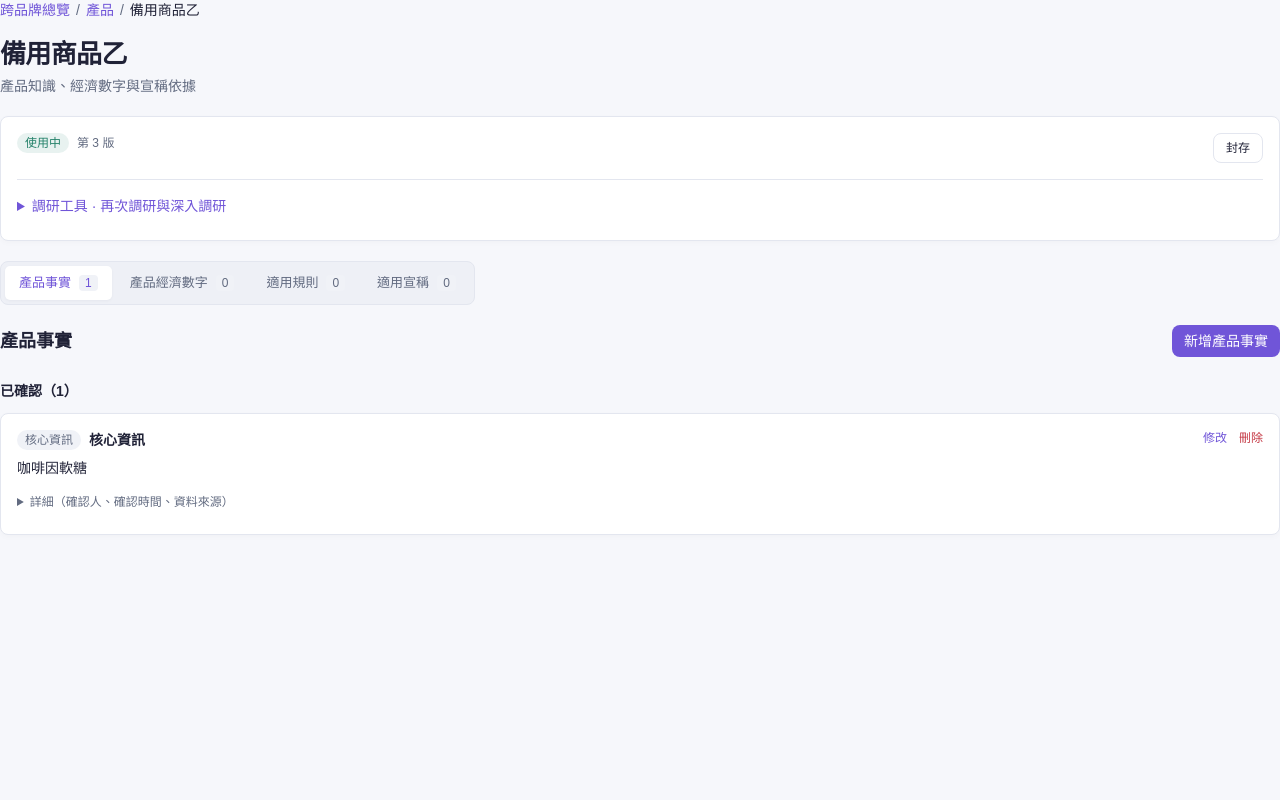
it: ProductDetailPage 封存 (F47-I05, drill-10 V9) › a refused archive keeps the dialog open with the reason
Click the button "封存".
click(1238, 148)  # box [1213,133,1263,163]
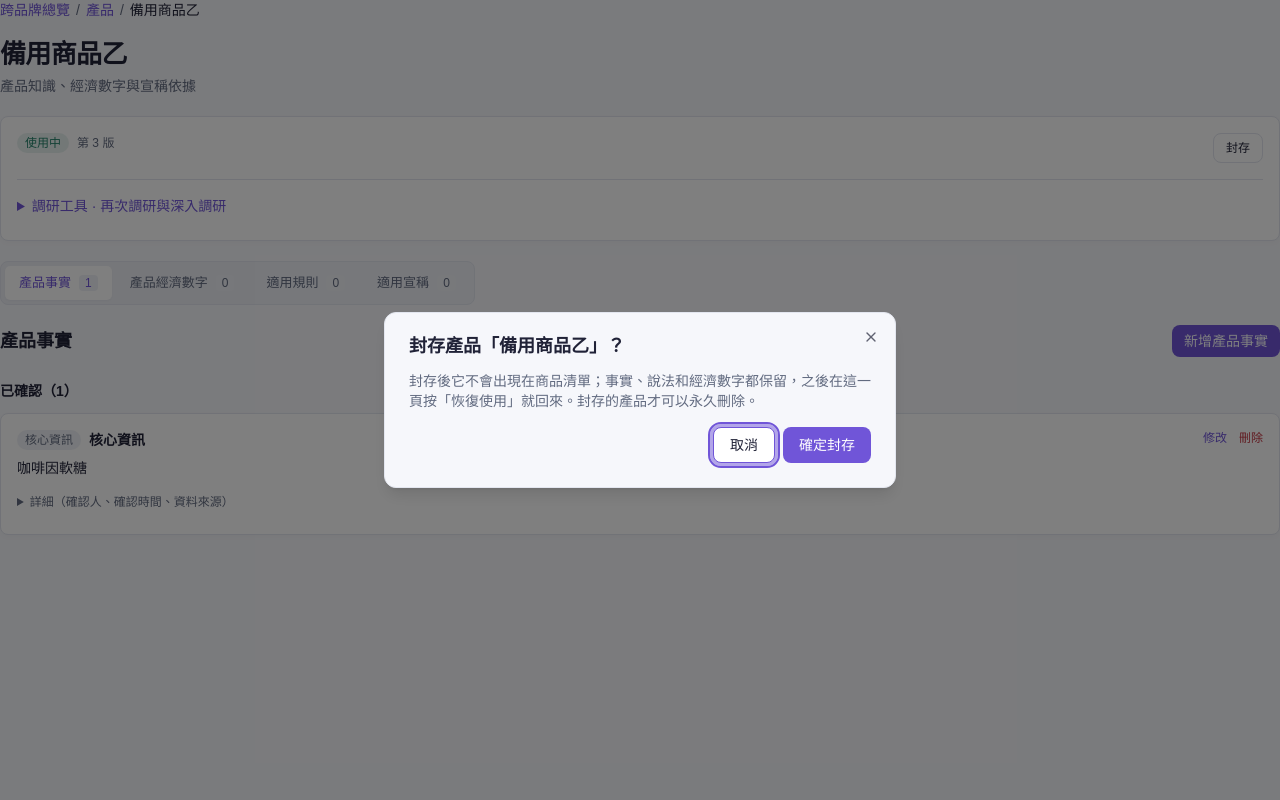
Click the button "確定封存".
click(827, 445)  # box [783,427,871,463]
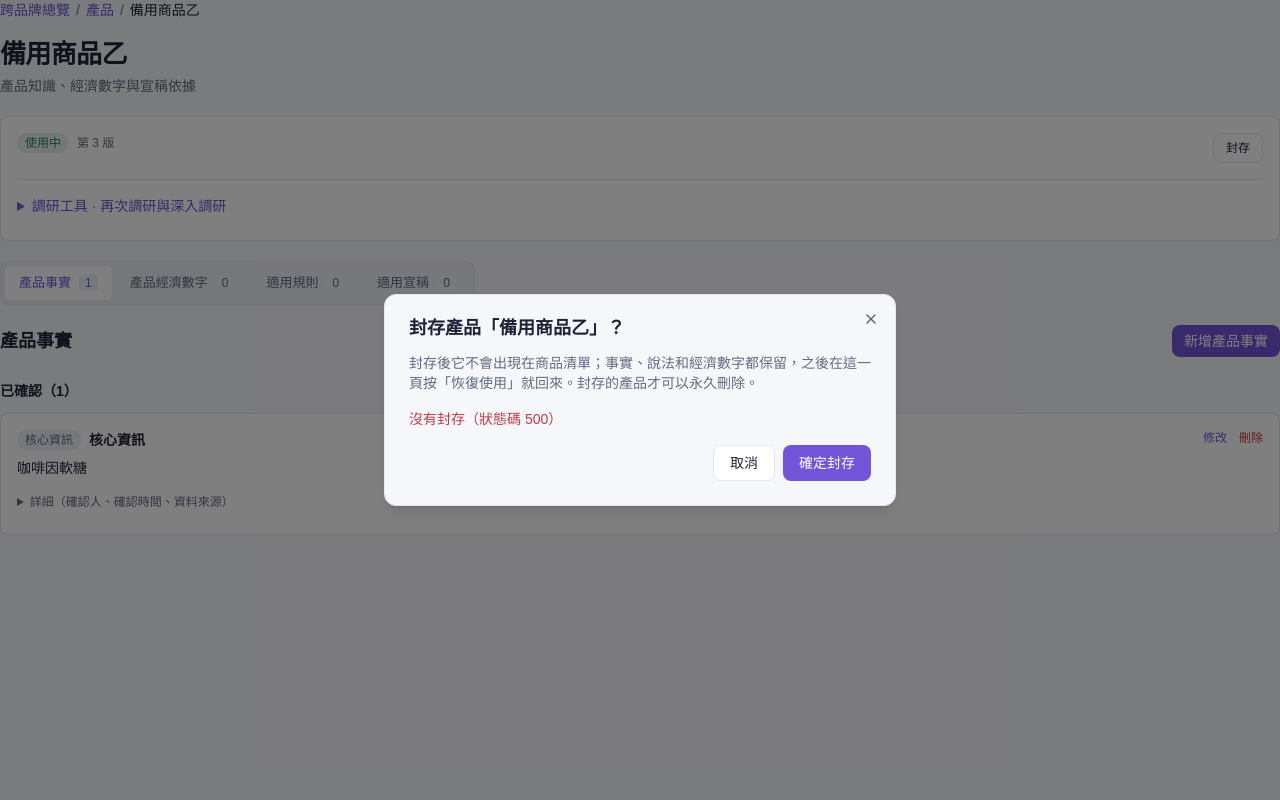
Expected: the dialog is shown, [384,294,896,506]
Expected: the message reads "沒有封存（狀態碼 500）", [409,411,562,427]
